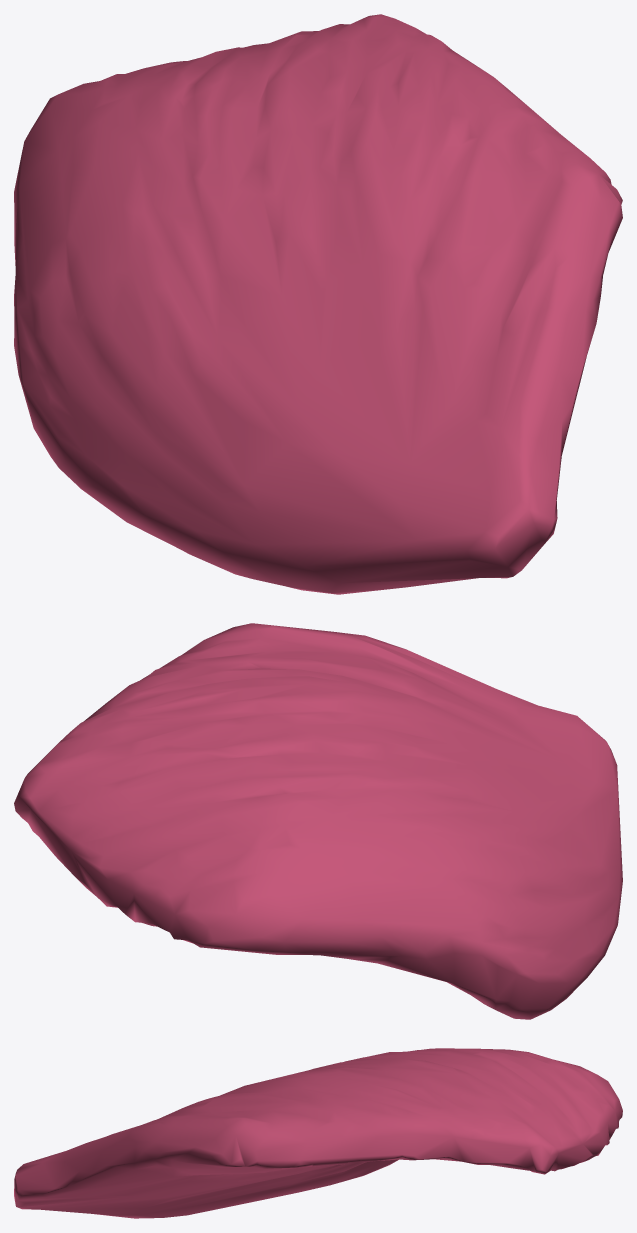
The picture shows the model from 3 angles, top to bottom: view 1: azimuth 30°, elevation 25°; view 2: azimuth 150°, elevation 25°; view 3: azimuth 270°, elevation 25°; orthographic projection. The views are drawn at different scales.
Visible parts, largest first — view 1: 右侧环杓后肌; view 2: 右侧环杓后肌; view 3: 右侧环杓后肌.
Part boxes in pixels (x1=…): 右侧环杓后肌: x1=14, y1=14, x2=622, y2=594; 右侧环杓后肌: x1=14, y1=623, x2=622, y2=1019; 右侧环杓后肌: x1=14, y1=1048, x2=622, y2=1218.
Size of the model in its own units: 0.0134 by 0.00845 by 0.0212.
